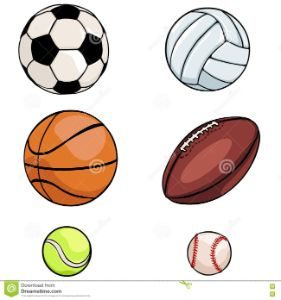baloncesto: (24, 110, 118, 206)
futbol americano: (161, 117, 260, 205)
voleibol: (165, 7, 250, 91)
